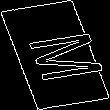M_E: (8, 27, 102, 83)
